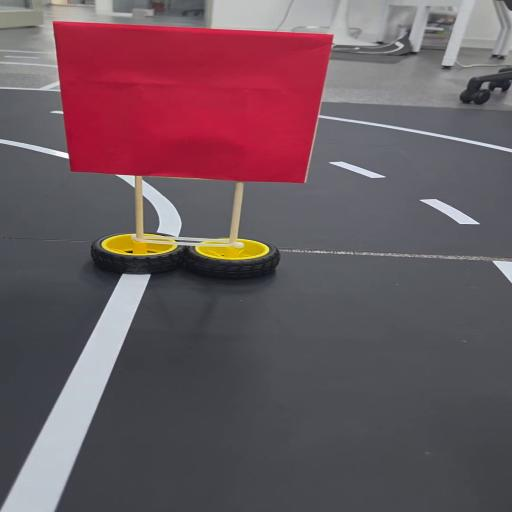Sign_A: (59, 22, 319, 287)
